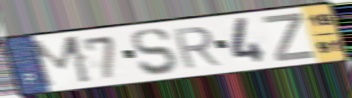4: (230, 16, 272, 67)
7: (80, 33, 119, 80)
M: (28, 33, 95, 90)
R: (170, 25, 224, 71)
S: (129, 26, 179, 78)
Z: (260, 12, 318, 64)
